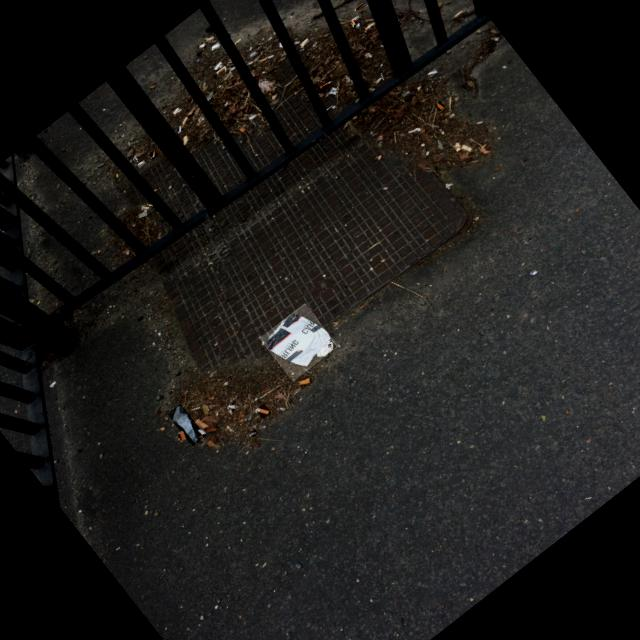Cigarette: (256, 408, 271, 415), (300, 378, 311, 386), (321, 81, 332, 88), (217, 66, 226, 74), (180, 430, 186, 441), (461, 145, 472, 151), (436, 102, 445, 109), (454, 11, 463, 18), (215, 62, 222, 70), (228, 405, 238, 410), (302, 39, 308, 47), (456, 143, 461, 152), (356, 4, 363, 10), (367, 52, 373, 59), (183, 117, 189, 124), (428, 71, 437, 75), (365, 25, 372, 30), (213, 45, 220, 50), (152, 150, 156, 158), (351, 20, 356, 26), (235, 39, 241, 44), (174, 108, 179, 114), (377, 77, 382, 83), (260, 59, 267, 63), (207, 37, 214, 41), (184, 136, 188, 143), (251, 431, 257, 435), (139, 162, 145, 166), (143, 207, 150, 210), (134, 156, 138, 161), (200, 44, 206, 47), (179, 126, 182, 132), (398, 15, 403, 17)
Drink can: (265, 315, 333, 367)
Pop tab: (326, 342, 333, 352)
Unlabeled litter: (173, 405, 200, 444)
